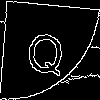Q: (25, 24, 67, 78)
